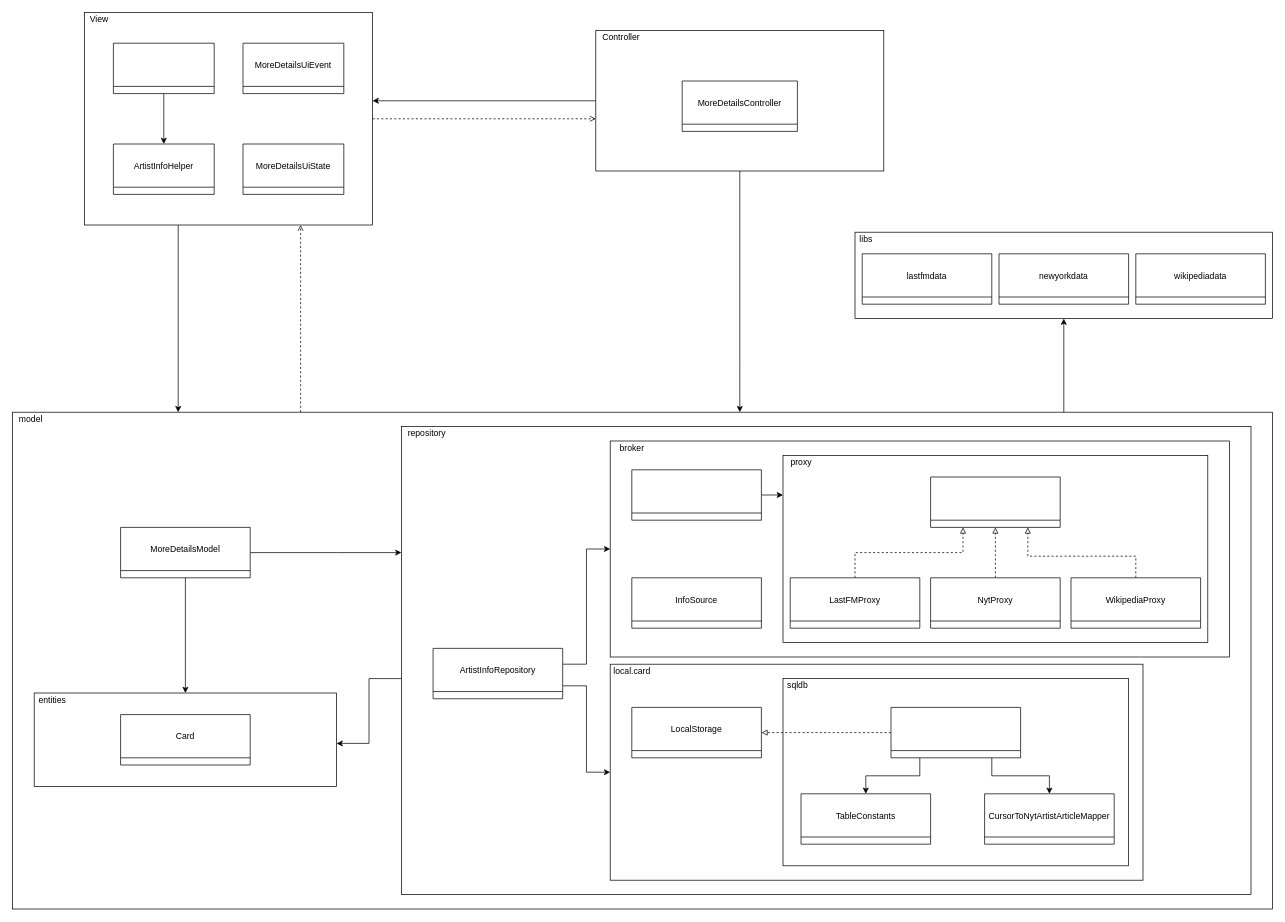
Image size: 1285x922. Some labels were removed from this diagram. Each missing label, with the centre of its shape:
InfoBroker: point 696,494
LocalStorageImpl: point 955,732
MoreDetailsView: point 163,68
ServiceProxy: point 995,501
